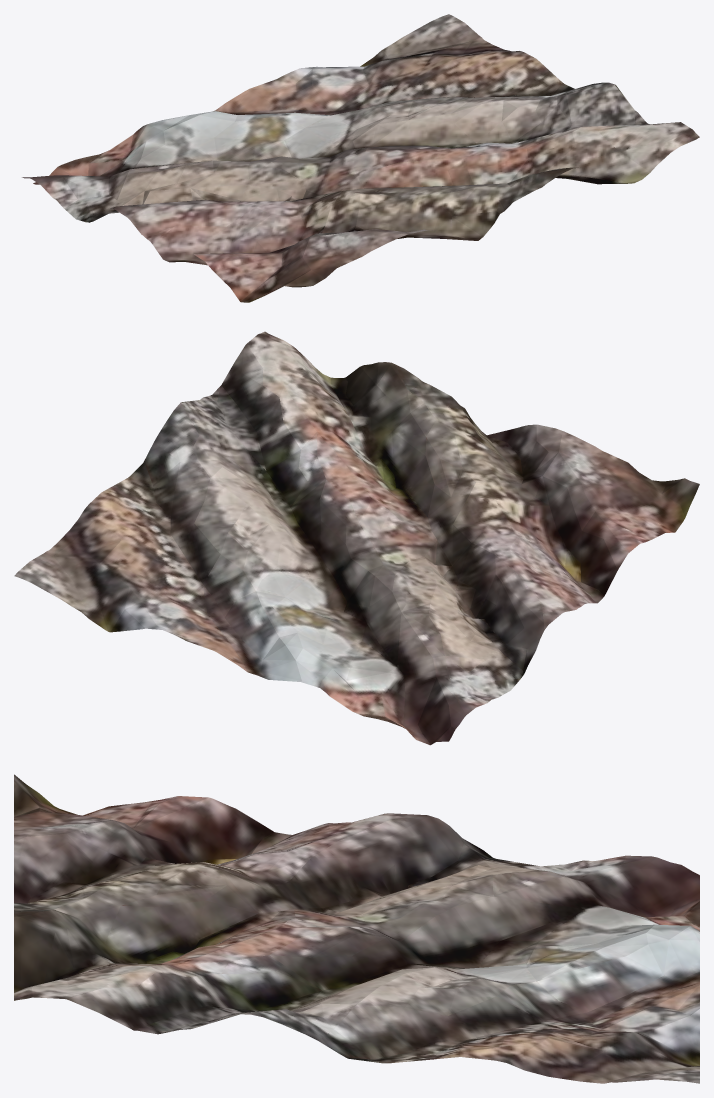
The picture shows the model from 3 angles, top to bottom: view 1: azimuth 30°, elevation 25°; view 2: azimuth 150°, elevation 25°; view 3: azimuth 270°, elevation 25°; orthographic projection. The views are drawn at different scales.
Bounding box in the file's own units: 0.8374 × 0.2412 × 0.8374.
3 materials, 3 textured.
